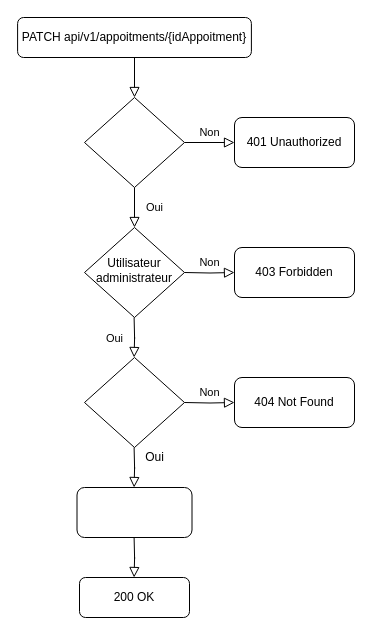
Some shapes in this 372 by 635 pixel diagram are drawn without their labels. The centre of each missing label's shape, as x and y in pixels:
Header Authorization présent: point (134, 142)
Modification du rendez-vous dans la base de données: point (134, 512)
Rendez-vous à modifier existant: point (134, 402)
